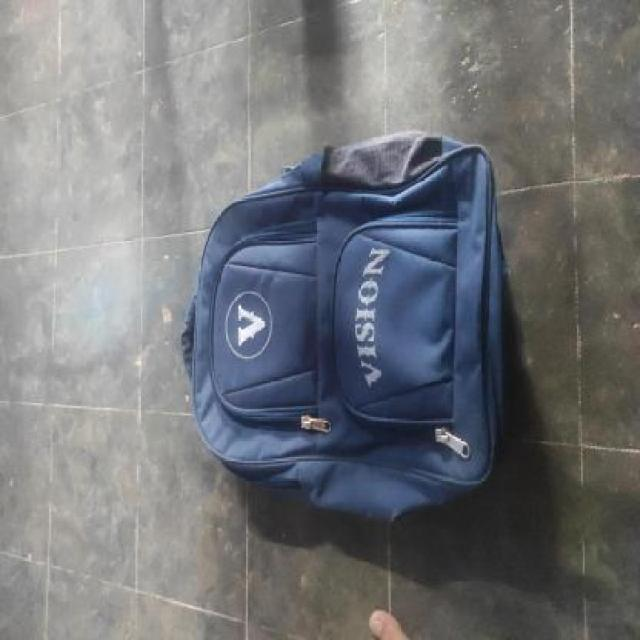backpack: (177, 125, 511, 528)
